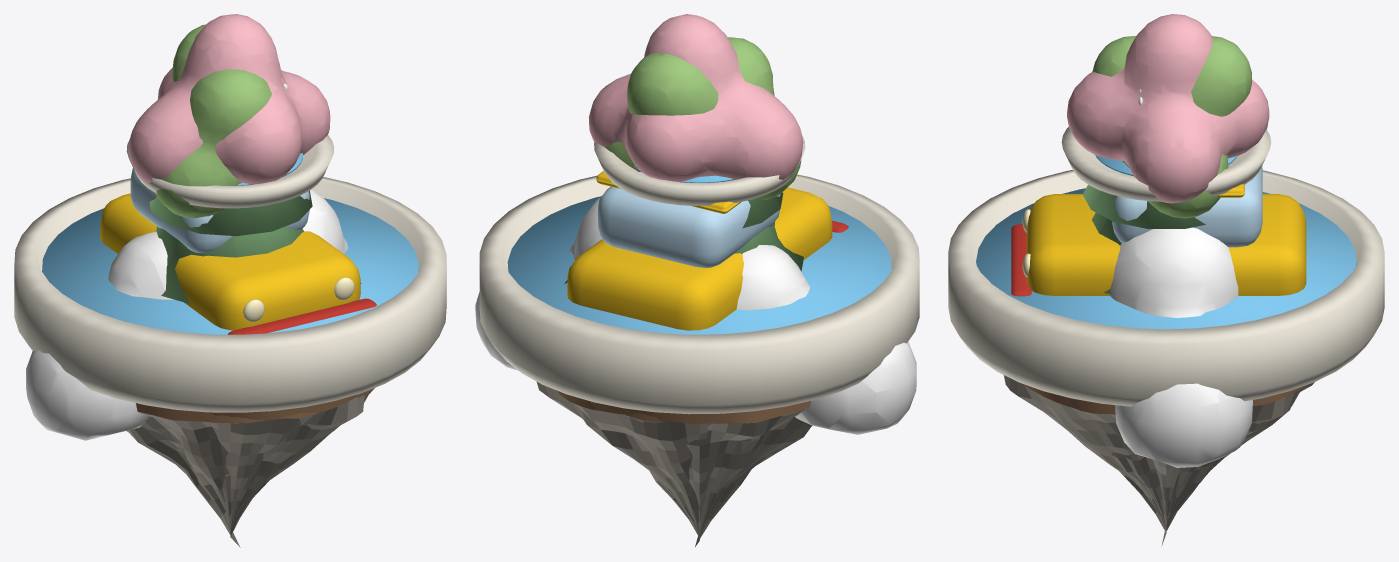
The model's file is world.glb.
The picture shows the model from 3 angles, left to right: view 1: azimuth 30°, elevation 25°; view 2: azimuth 150°, elevation 25°; view 3: azimuth 270°, elevation 25°; orthographic projection.
Parts seen in each view (by area): view 1: Fountain, Car, Tree_Blossom, Cloud, Island_A, Tree_Round, Island_B, Tree_Pine; view 2: Fountain, Car, Tree_Blossom, Cloud, Island_A, Tree_Round, Island_B, Tree_Pine; view 3: Fountain, Tree_Blossom, Car, Cloud, Island_A, Tree_Round, Island_B, Tree_Pine.
Part boxes in pixels (x1=…): Fountain: x1=14, y1=135, x2=446, y2=412; Car: x1=100, y1=168, x2=376, y2=334; Tree_Blossom: x1=129, y1=14, x2=330, y2=184; Cloud: x1=26, y1=189, x2=347, y2=440; Island_A: x1=127, y1=388, x2=374, y2=547; Tree_Round: x1=155, y1=24, x2=271, y2=218; Island_B: x1=126, y1=388, x2=374, y2=546; Tree_Pine: x1=149, y1=190, x2=312, y2=303; Fountain: x1=479, y1=135, x2=919, y2=414; Car: x1=565, y1=171, x2=848, y2=330; Tree_Blossom: x1=588, y1=14, x2=803, y2=181; Cloud: x1=475, y1=197, x2=916, y2=434; Island_A: x1=536, y1=381, x2=810, y2=546; Tree_Round: x1=605, y1=37, x2=801, y2=199; Island_B: x1=556, y1=390, x2=812, y2=544; Tree_Pine: x1=734, y1=192, x2=803, y2=271; Fountain: x1=948, y1=127, x2=1384, y2=406; Tree_Blossom: x1=1067, y1=14, x2=1269, y2=203; Car: x1=1011, y1=166, x2=1306, y2=296; Cloud: x1=1110, y1=227, x2=1252, y2=467; Island_A: x1=1003, y1=375, x2=1314, y2=545; Tree_Round: x1=1092, y1=36, x2=1251, y2=218; Island_B: x1=1021, y1=383, x2=1270, y2=542; Tree_Pine: x1=1082, y1=185, x2=1205, y2=294.
Bounding box in the file's own units: 2.68 × 3.35 × 2.5.
